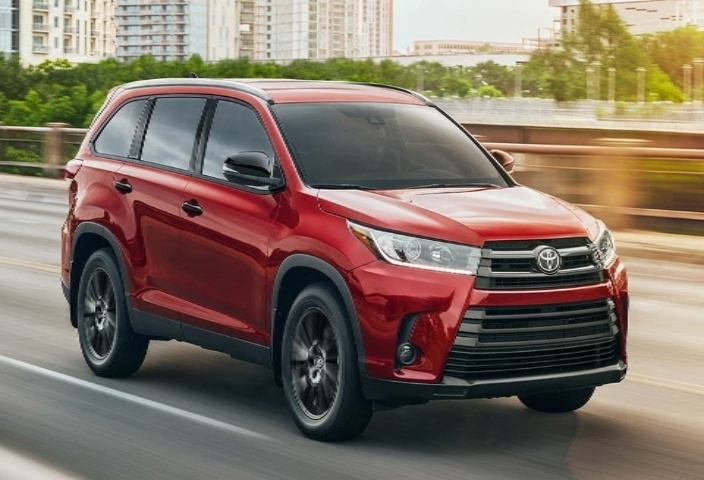camper: (61, 69, 637, 416)
